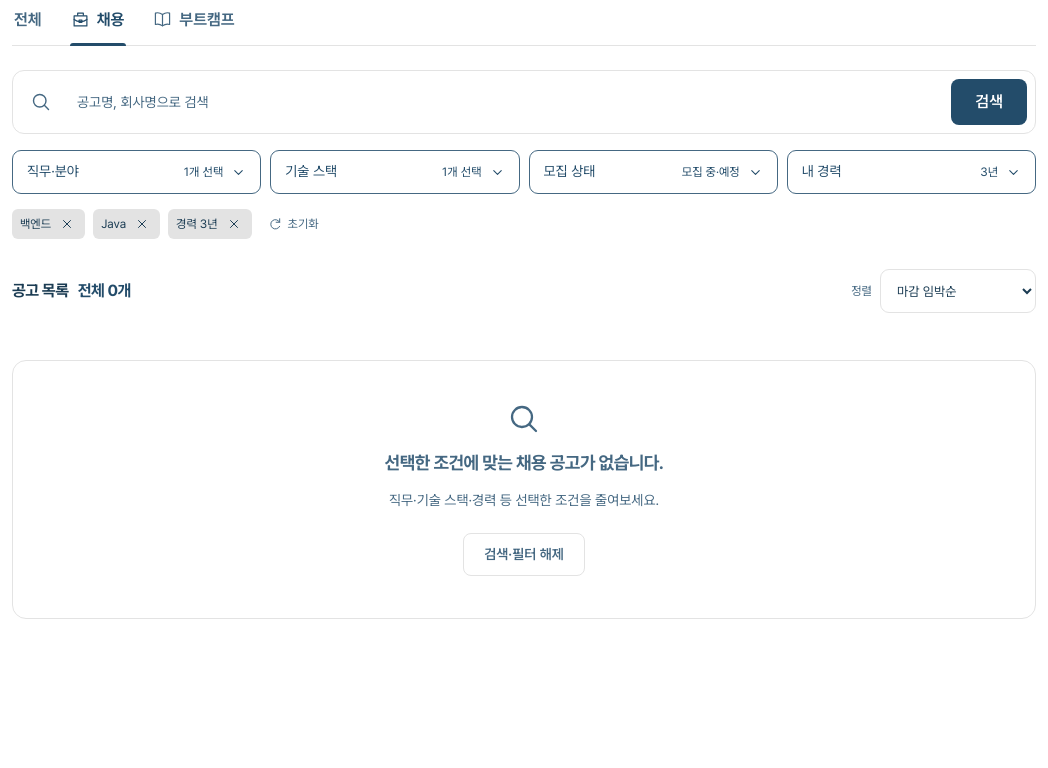
Test: 교육 전환은 경력·연봉을 해제하고 지원하지 않는 URL 조건을 요청하지 않는다
The width and height of the screenshot is (1048, 768).
Click the radio button with id "edu": (194, 20) x1=154 y1=10 x2=235 y2=29
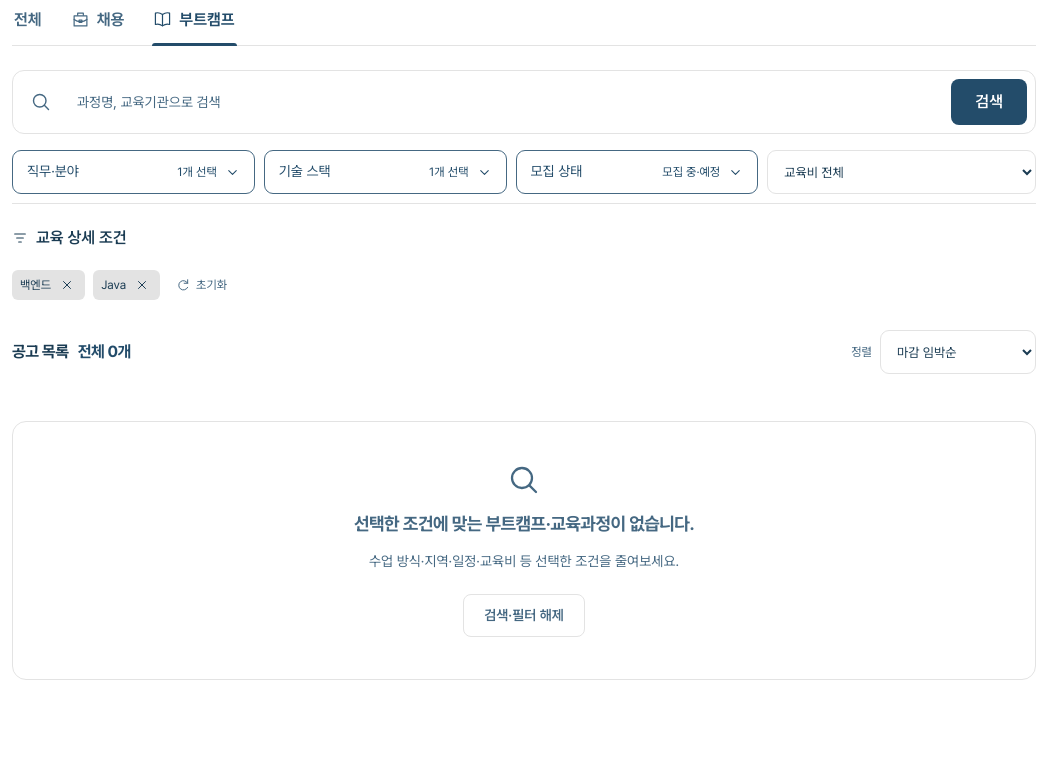
Expected: the dropdown named "교육비" is shown, x1=767 y1=150 x2=1036 y2=194
